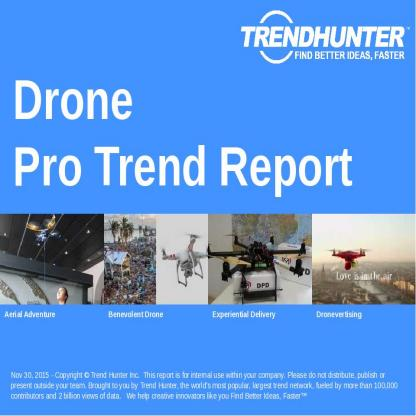drone: (204, 229, 316, 286), (158, 228, 212, 284), (327, 243, 370, 275), (24, 216, 66, 247)
